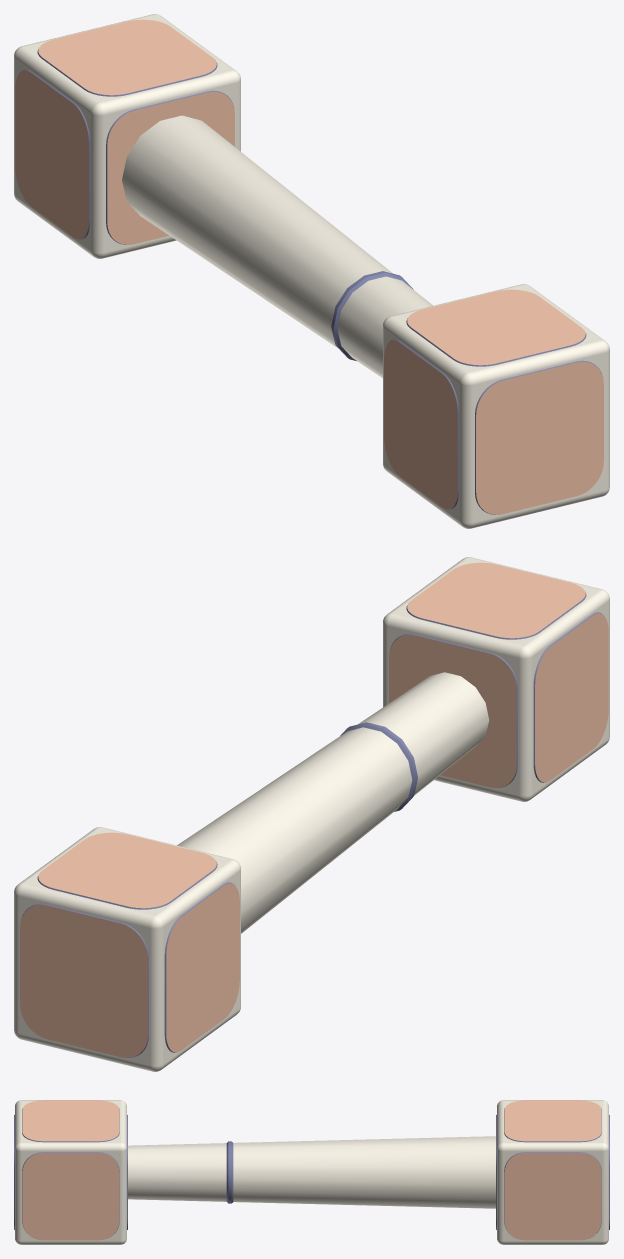
File: R4C_STRUT_LONG.fbx
The picture shows the model from 3 angles, top to bottom: view 1: azimuth 30°, elevation 25°; view 2: azimuth 150°, elevation 25°; view 3: azimuth 270°, elevation 25°; orthographic projection. The views are drawn at different scales.
Visible parts, largest first — view 1: R4C_STRUT_LONG; view 2: R4C_STRUT_LONG; view 3: R4C_STRUT_LONG.
Part boxes in pixels (left/top/right/bottom): R4C_STRUT_LONG: left=14, top=14, right=609, bottom=528; R4C_STRUT_LONG: left=14, top=557, right=609, bottom=1071; R4C_STRUT_LONG: left=14, top=1100, right=609, bottom=1244.
Bounding box in the file's own units: 0.52 × 0.52 × 2.72.
